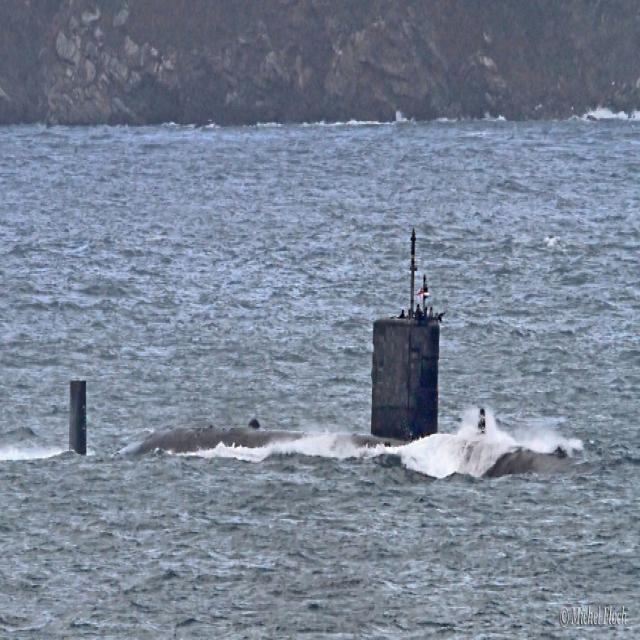submarine: (73, 232, 586, 474)
